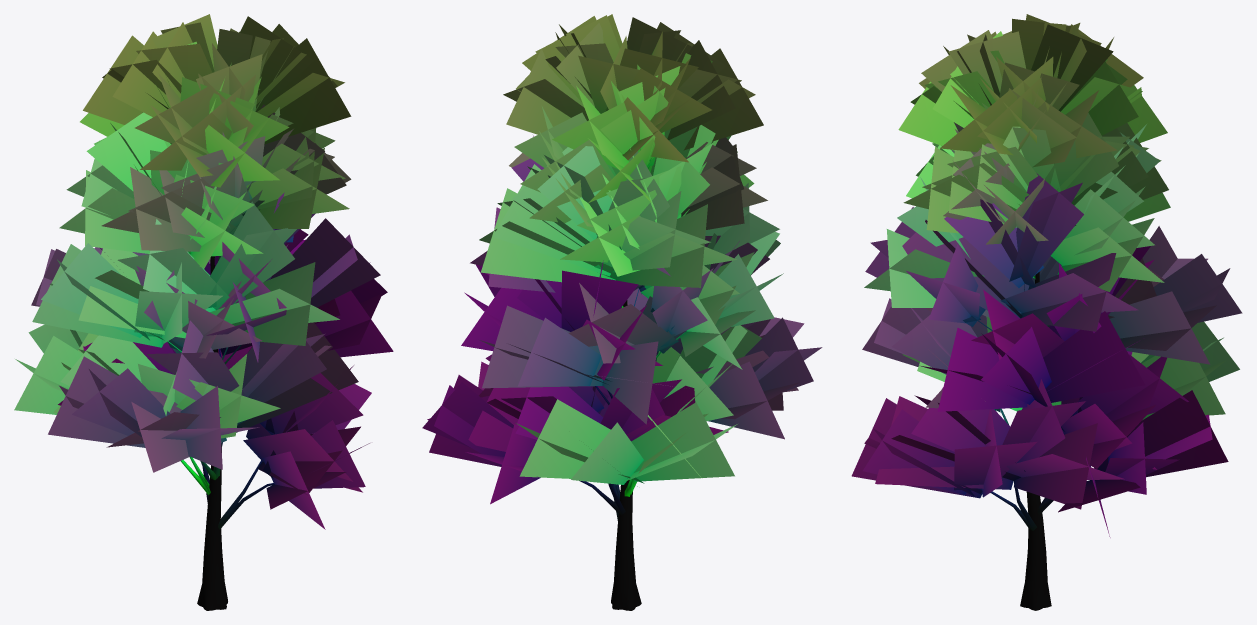
Rendered from Tree_8_6.fbx.
3 views of the same model, side by side, from view 1: azimuth 30°, elevation 25°; view 2: azimuth 150°, elevation 25°; view 3: azimuth 270°, elevation 25° (orthographic).
Visible parts, largest first — view 1: _9; view 2: _9; view 3: _9.
Boxes of the visible parts, box(x1,y1,x2,y2) form: _9: box(14, 14, 393, 610); _9: box(422, 14, 822, 610); _9: box(851, 14, 1242, 610).
Bounding box in the file's own units: 972 × 1650 × 1015.
